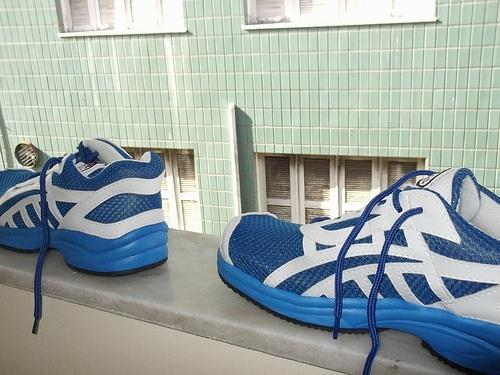shoe: (217, 169, 499, 374), (0, 139, 167, 332)
